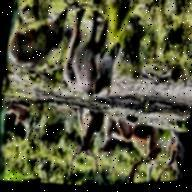boar: (66, 22, 130, 118), (16, 21, 75, 87)
